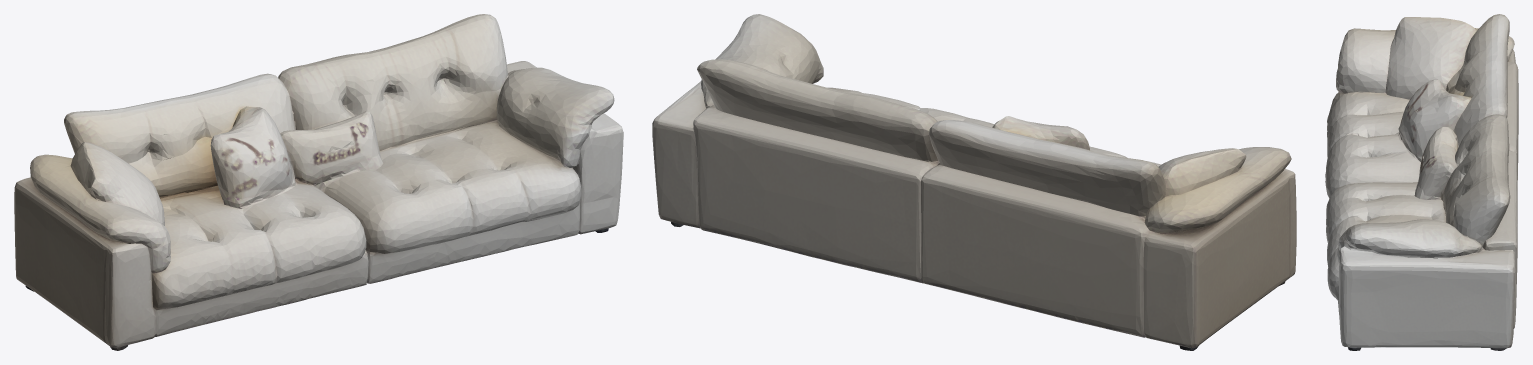
3 views of the same model, side by side, from view 1: azimuth 30°, elevation 25°; view 2: azimuth 150°, elevation 25°; view 3: azimuth 270°, elevation 25° (orthographic). The views are drawn at different scales.
Parts seen in each view (by area): view 1: world; view 2: world; view 3: world.
Boxes of the visible parts, x1,y1,x2,y2 form: world: [14, 14, 623, 350]; world: [652, 14, 1296, 350]; world: [1325, 14, 1518, 350].
Size of the model in its own units: 0.9997 by 0.3045 by 0.3702.
Materials: 1 (1 with a texture image).
